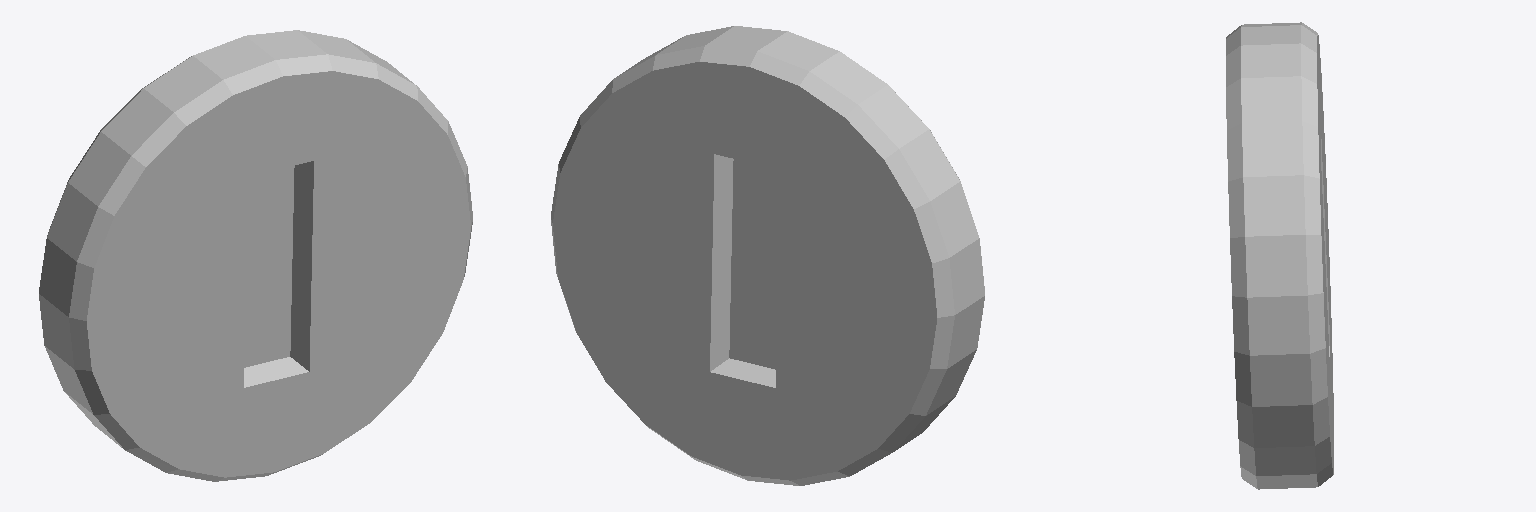
The model's file is Coin.obj.
3 renders of one model, left to right at view 1: azimuth 30°, elevation 25°; view 2: azimuth 150°, elevation 25°; view 3: azimuth 270°, elevation 25°, orthographic.
Visible parts, largest first — view 1: Coin_Coin__CoinMat00; view 2: Coin_Coin__CoinMat00; view 3: Coin_Coin__CoinMat00.
Boxes of the visible parts, x1,y1,x2,y2 form: Coin_Coin__CoinMat00: [39, 30, 472, 481]; Coin_Coin__CoinMat00: [551, 26, 984, 485]; Coin_Coin__CoinMat00: [1226, 22, 1333, 489].
Size of the model in its own units: 0.0793 by 0.0796 by 0.0185.